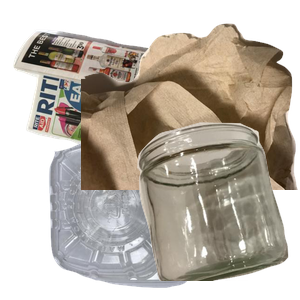glass: (135, 120, 300, 300)
paper: (11, 27, 213, 185)
plastic: (46, 130, 227, 300)
trash: (81, 21, 300, 201)
